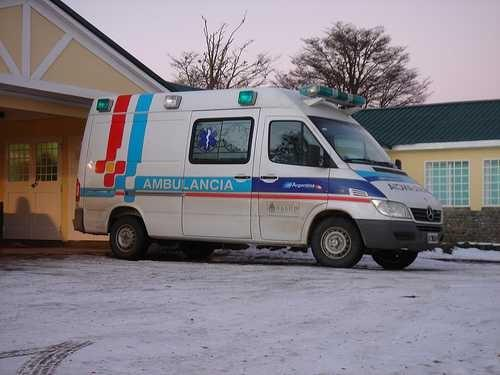car: (72, 83, 443, 269)
